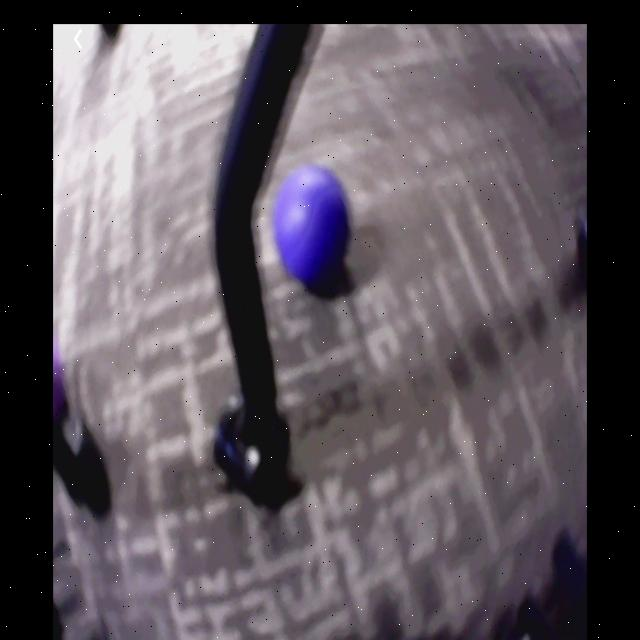ball: (273, 171, 350, 283)
